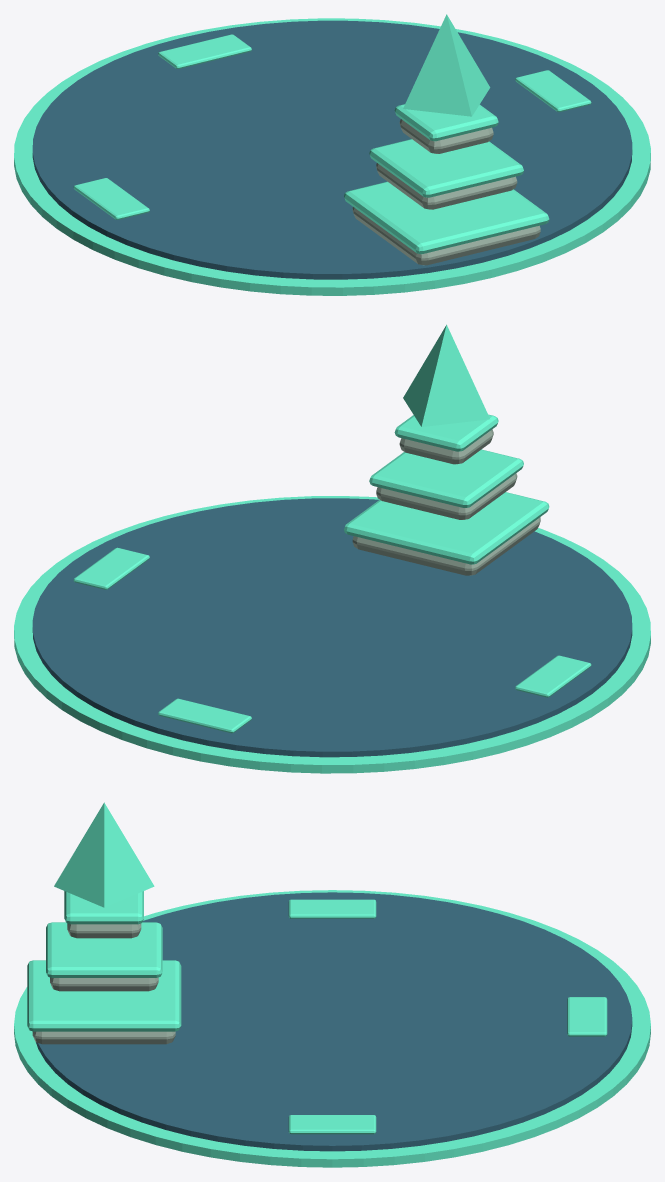
The model's file is sanctuary.gltf.
3 views of the same model, one above another, from view 1: azimuth 30°, elevation 25°; view 2: azimuth 150°, elevation 25°; view 3: azimuth 270°, elevation 25° (orthographic).
Visible parts, largest first — view 1: Passable luminous perimeter; view 2: Passable luminous perimeter; view 3: Passable luminous perimeter.
Boxes of the visible parts, <box> form: Passable luminous perimeter: <box>14,14,650,295</box>; Passable luminous perimeter: <box>14,324,650,773</box>; Passable luminous perimeter: <box>14,802,650,1167</box>.
Size of the model in its own units: 2.4 by 0.9595 by 2.4.
